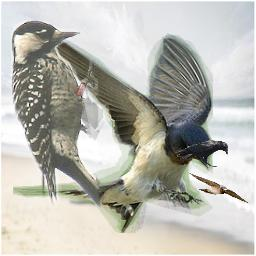Crow: (173, 140, 228, 167)
Swallow: (13, 21, 213, 233), (187, 171, 250, 203)
Woodpecker: (11, 20, 108, 209)
